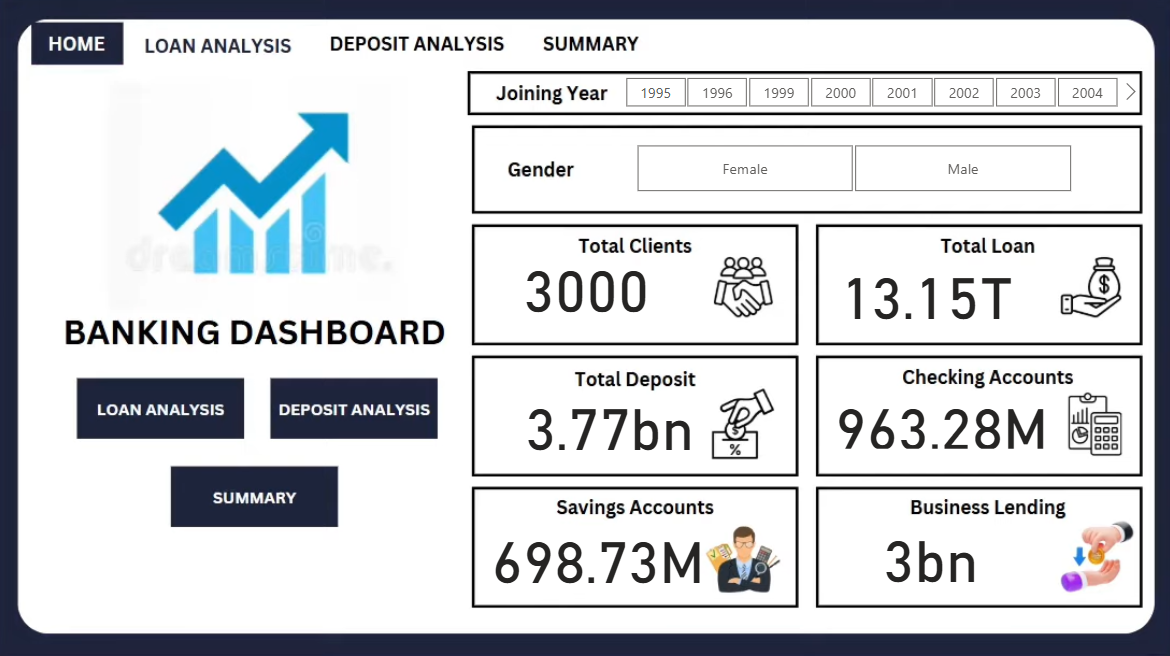

What the dashboard file says about the page in this screenshot:
{"tool":"powerbi","page":{"name":"Page 1","canvas":[1280,720],"ordinal":0},"visuals":[{"type":"card","fields":{"Values":["CountNonNull(Banking (1).Name)"]},"box":[520.9,286,239.5,61.6],"z":0},{"type":"slicer","fields":{"Values":["Banking (1).GenderId"]},"box":[661.6,180.2,453.5,57],"z":1000},{"type":"card","fields":{"Values":["Sum(Banking (1).Total Loan)"]},"box":[820.9,286,272.1,74.4],"z":2000},{"type":"card","fields":{"Values":["Sum(Banking (1).Total deposit)"]},"box":[564,402.3,196.5,86],"z":3000},{"type":"card","fields":{"Values":["Sum(Banking (1).Checking Accounts)"]},"box":[866.3,415.1,209.3,59.3],"z":4000},{"type":"slicer","fields":{"Values":["Banking (1).Year of joining"]},"box":[651.2,117.4,507,40.7],"z":5000},{"type":"card","fields":{"Values":["Sum(Banking (1).Saving Accounts)"]},"box":[544.2,532.6,214,72.1],"z":6000},{"type":"card","fields":{"Values":["Sum(Banking (1).Business Lending)"]},"box":[820.9,531.4,280.2,73.3],"z":7000},{"type":"textbox","box":[553.8,106.2,172.5,40],"z":8000},{"type":"textbox","box":[186.2,396.2,60,31.2],"z":9000},{"type":"actionButton","box":[175.6,411.6,143,46.5],"z":10000},{"type":"actionButton","box":[348.8,411.6,151.2,39.5],"z":10001},{"type":"actionButton","box":[257.5,488.8,155,52.5],"z":10002}]}

Visuals, with their boxes in screenshot pixels (x1, y1, x2, y2), scaled from the page's 1280x720 canvas onto the 1170x656 screenshot:
card - CountNonNull(Banking (1).Name): {"left": 476, "top": 261, "right": 695, "bottom": 317}
slicer - Banking (1).GenderId: {"left": 605, "top": 164, "right": 1019, "bottom": 216}
card - Sum(Banking (1).Total Loan): {"left": 750, "top": 261, "right": 999, "bottom": 328}
card - Sum(Banking (1).Total deposit): {"left": 516, "top": 367, "right": 695, "bottom": 445}
card - Sum(Banking (1).Checking Accounts): {"left": 792, "top": 378, "right": 983, "bottom": 432}
slicer - Banking (1).Year of joining: {"left": 595, "top": 107, "right": 1059, "bottom": 144}
card - Sum(Banking (1).Saving Accounts): {"left": 497, "top": 485, "right": 693, "bottom": 551}
card - Sum(Banking (1).Business Lending): {"left": 750, "top": 484, "right": 1006, "bottom": 551}
textbox: {"left": 506, "top": 97, "right": 664, "bottom": 133}
textbox: {"left": 170, "top": 361, "right": 225, "bottom": 389}
actionButton: {"left": 161, "top": 375, "right": 291, "bottom": 417}
actionButton: {"left": 319, "top": 375, "right": 457, "bottom": 411}
actionButton: {"left": 235, "top": 445, "right": 377, "bottom": 493}
